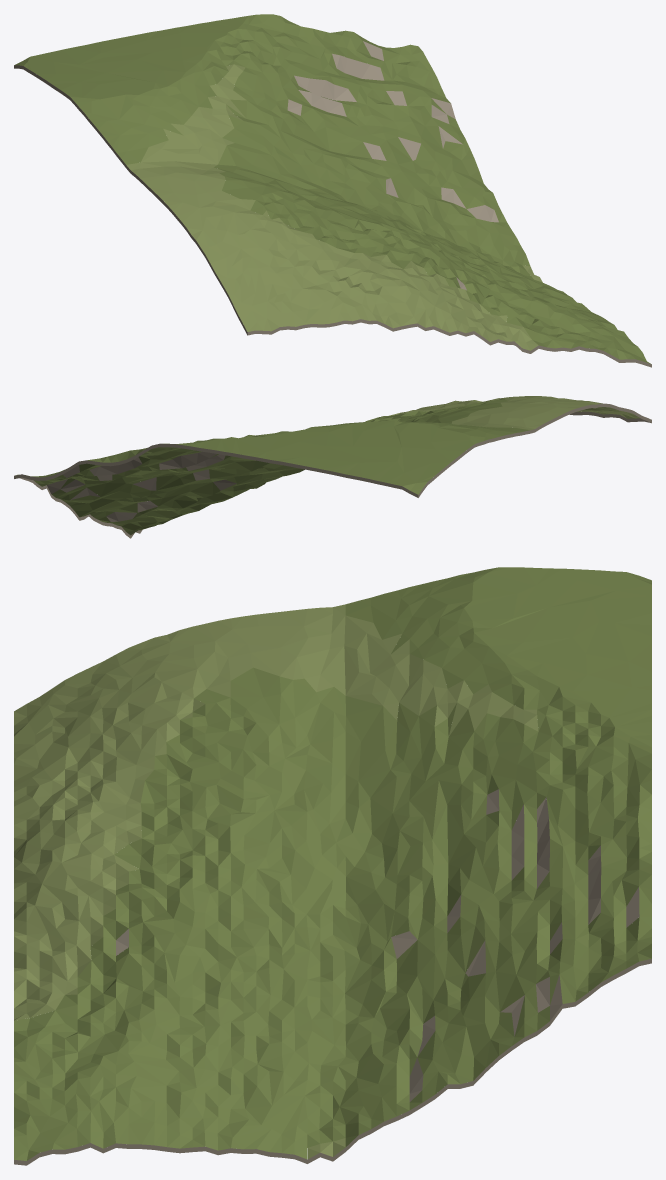
The model's file is parca_+7_-6-uzak.glb.
3 renders of one model, top to bottom at view 1: azimuth 30°, elevation 25°; view 2: azimuth 150°, elevation 25°; view 3: azimuth 270°, elevation 25°, orthographic. The views are drawn at different scales.
Visible parts, largest first — view 1: parca_+7_-6_arazi_uzak; view 2: parca_+7_-6_arazi_uzak; view 3: parca_+7_-6_arazi_uzak.
Boxes of the visible parts, x1,y1,x2,y2 form: parca_+7_-6_arazi_uzak: (14,14,651,367); parca_+7_-6_arazi_uzak: (14,396,651,538); parca_+7_-6_arazi_uzak: (14,567,651,1165).
Bounding box in the file's own units: 1000 × 569 × 1000.
